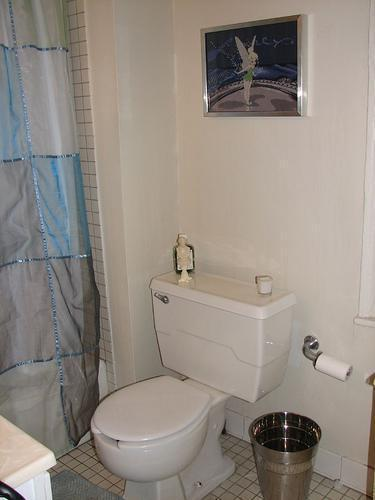Bote de Basura: (248, 403, 321, 499)
Ducha: (0, 0, 109, 499)
